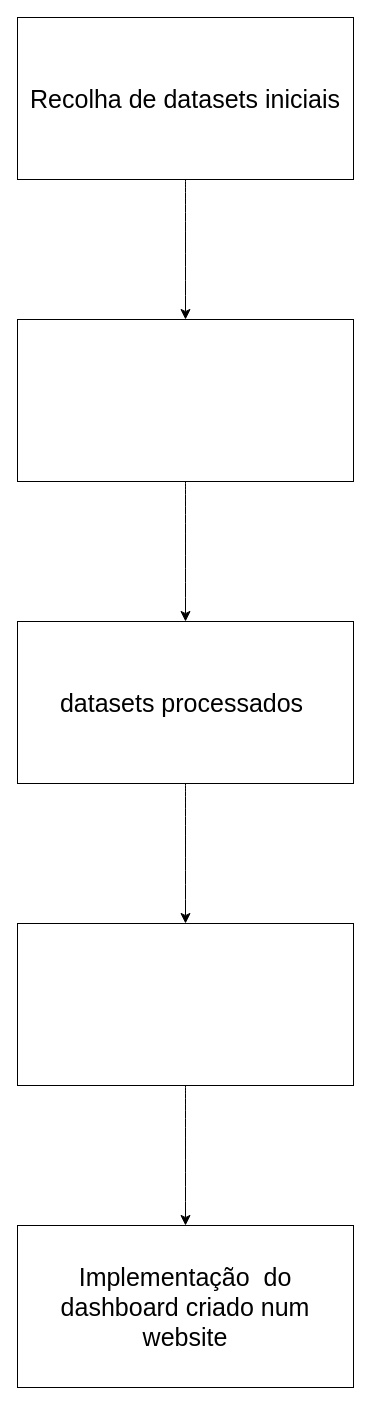
The diagram is 371 pixels wide and 1405 high, and some of its shapes have lost their labels. Here are the shapes that lost their labels. From the top down, the centre of each, then its label:
the point at 185,400: Pré-processamento dos dados com python
the point at 185,1004: Uso do POWER BI para visualizar os dados
